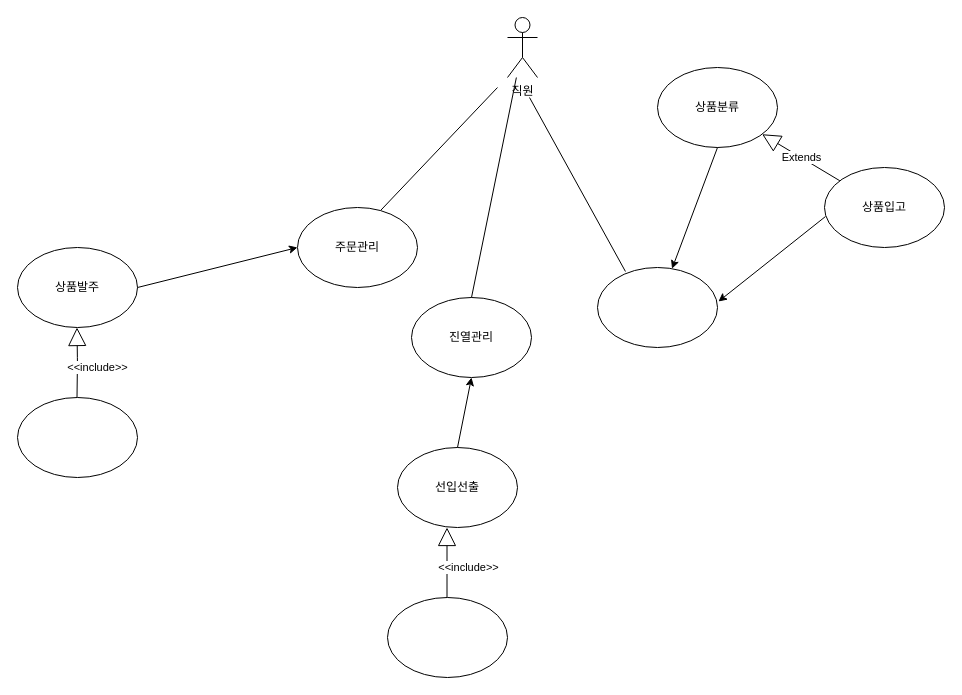
This 962x695 diagram has some shape labels left out. Each missing label, with the centre of its shape:
"상품현황확인" goes at (x=77, y=437).
"유통기한체크" goes at (x=447, y=637).
"창고관리" goes at (x=657, y=307).
